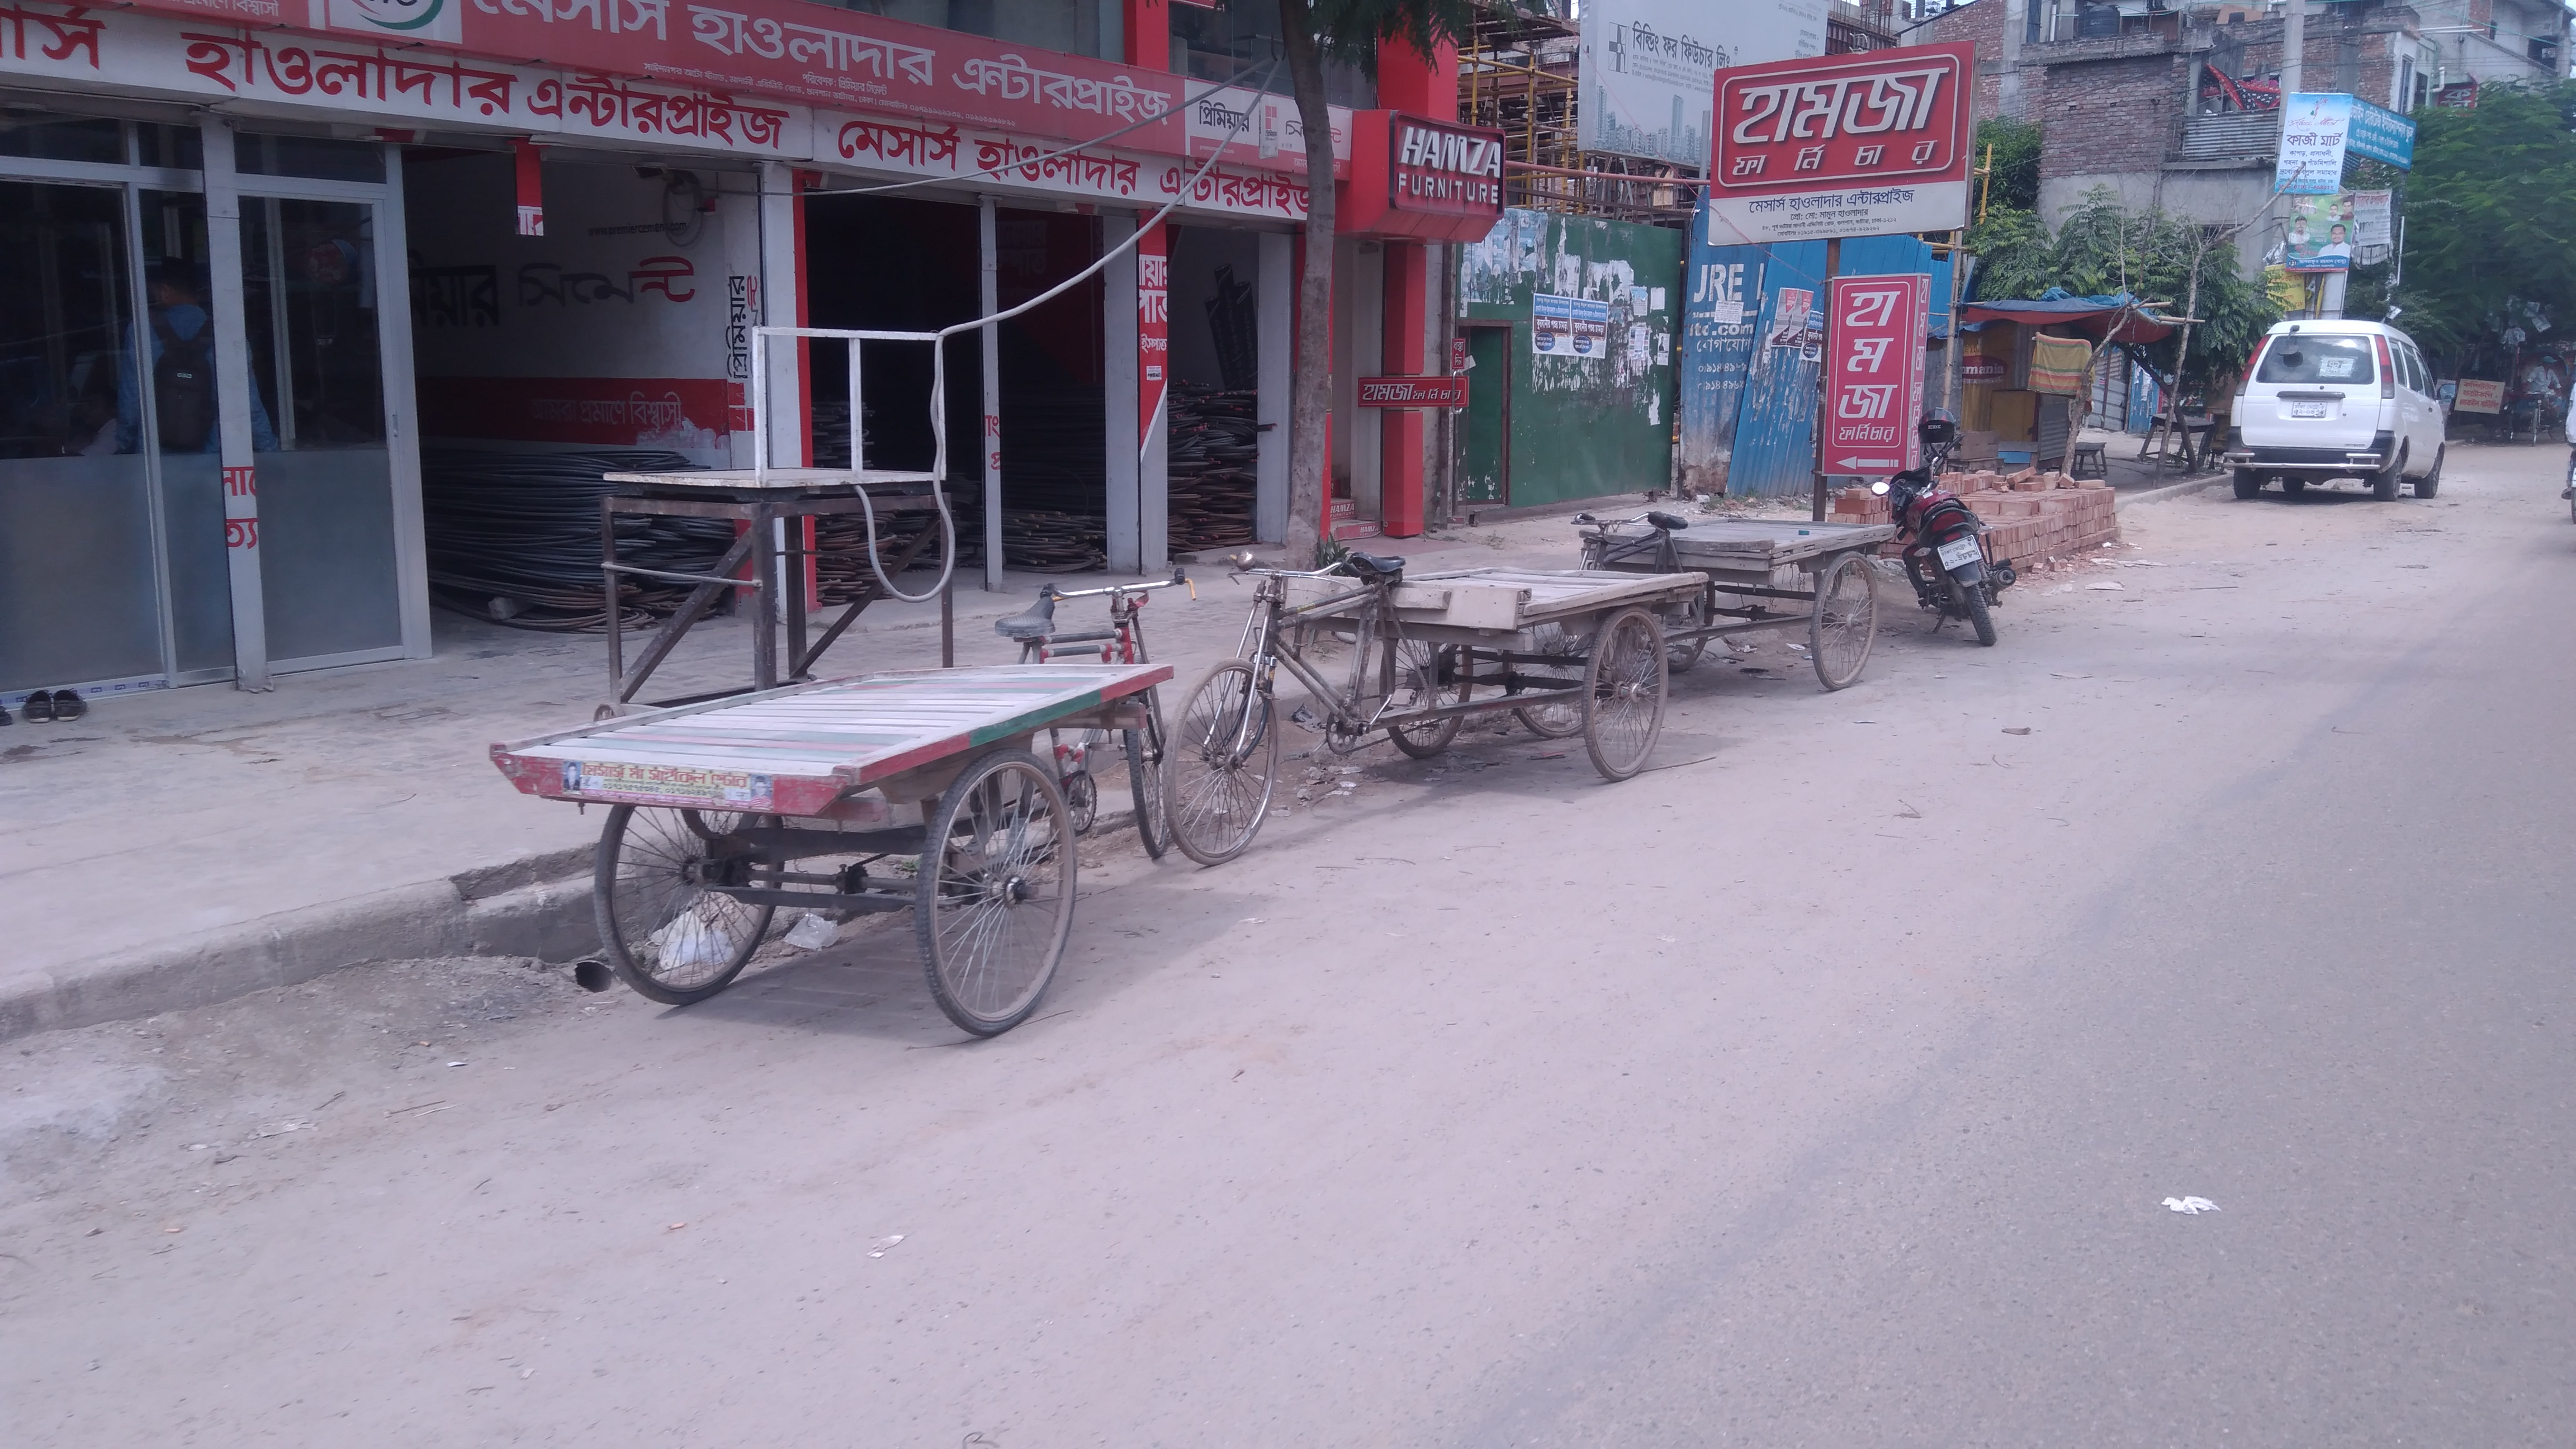bike: (1845, 437, 2028, 658)
car: (2215, 322, 2472, 510)
van: (476, 573, 1189, 1049), (1146, 515, 1706, 856), (1562, 442, 1902, 717)
